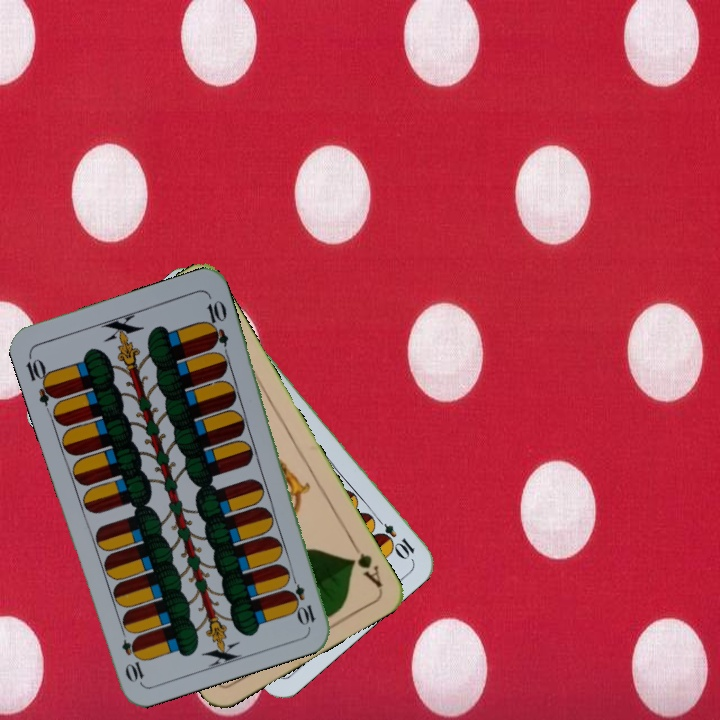E10: (369, 511, 418, 561), (22, 350, 60, 408), (285, 569, 318, 628)
GA: (346, 536, 385, 590)
